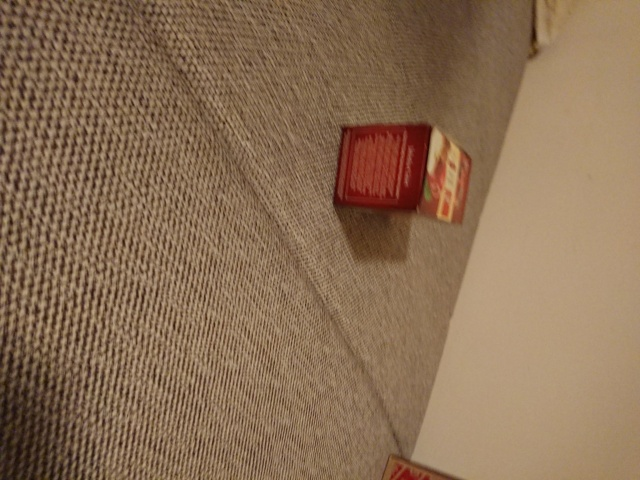Franck Apple Cinnamon Tea 60g: (328, 118, 476, 230)
